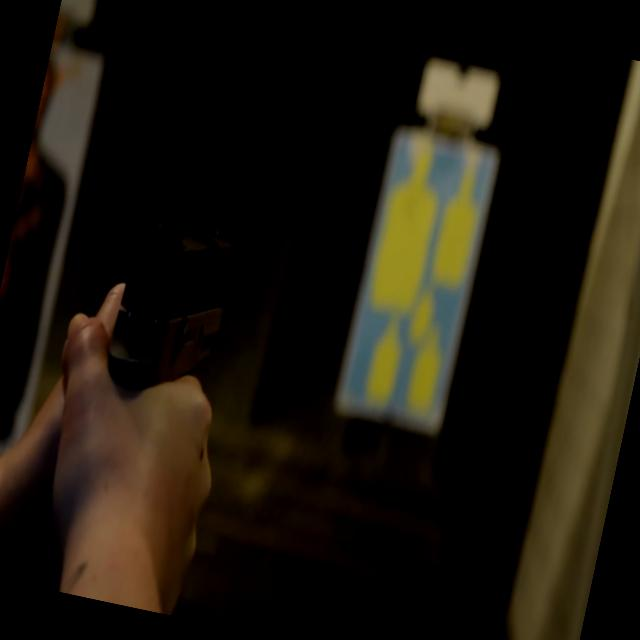handgun: (79, 198, 278, 451)
